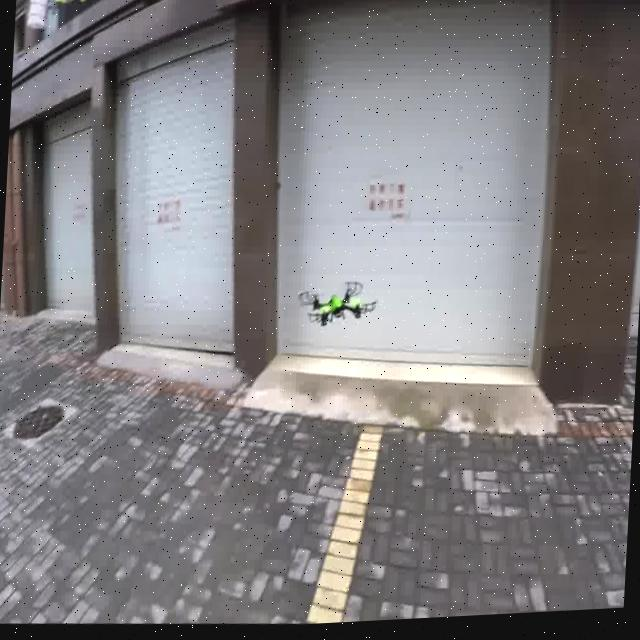drone: (289, 266, 385, 353)
